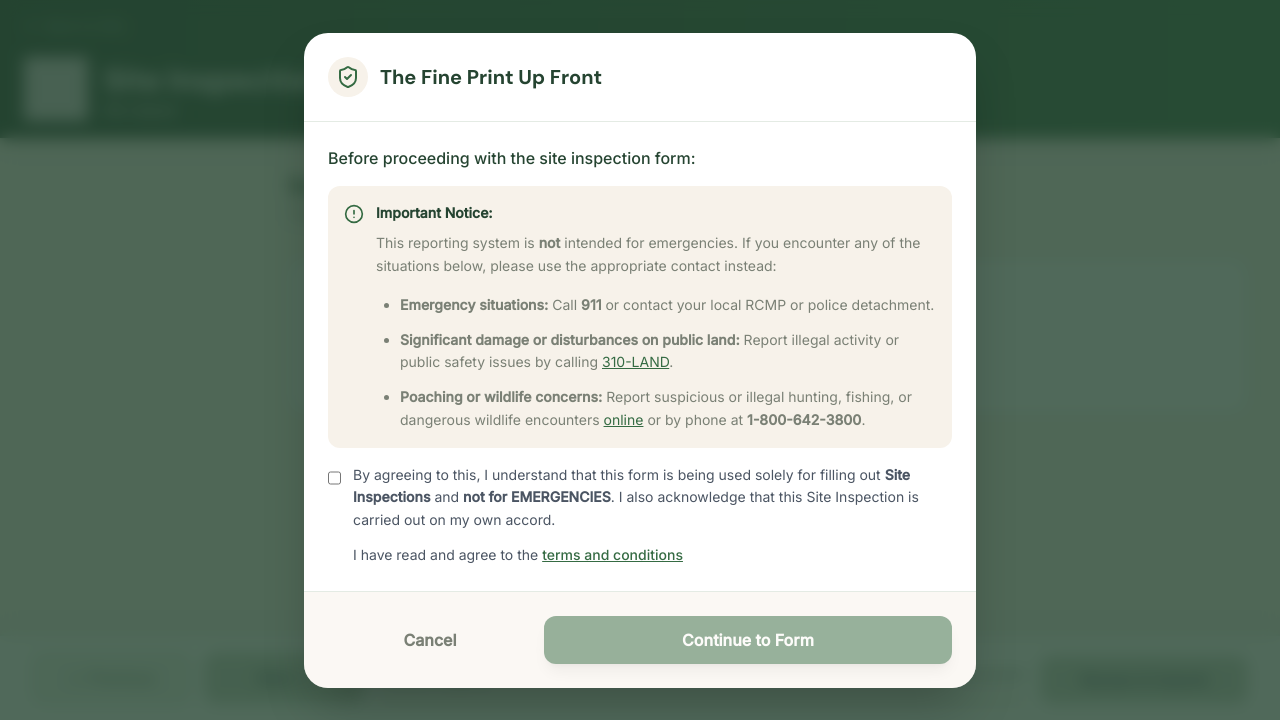
Scenario: NewReportPage – Liability / Verification Popup › Happy path – full liability check completion › enables the 'Continue to Form' button when checkbox is checked
This screenshot has width=1280, height=720.
Click the checkbox at (334, 478), box left=328, top=468, right=341, bottom=488
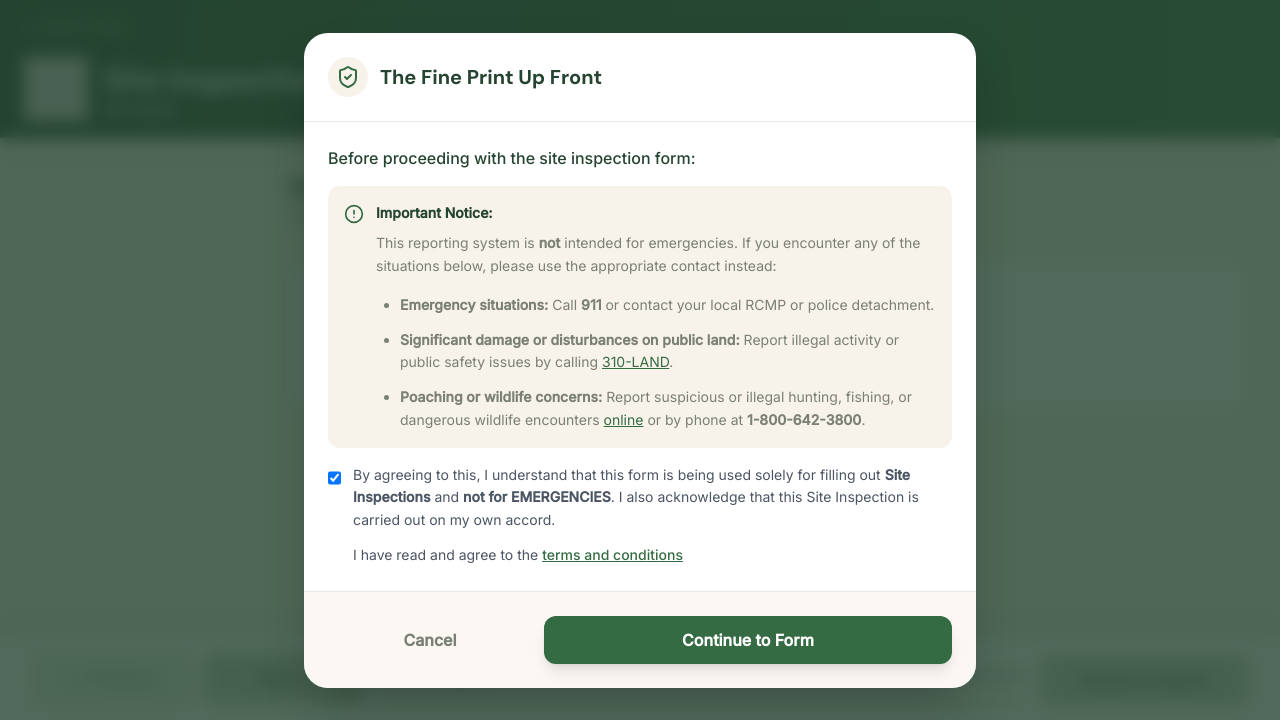
Expected: the button "Continue to Form" is enabled, left=544, top=616, right=952, bottom=664
